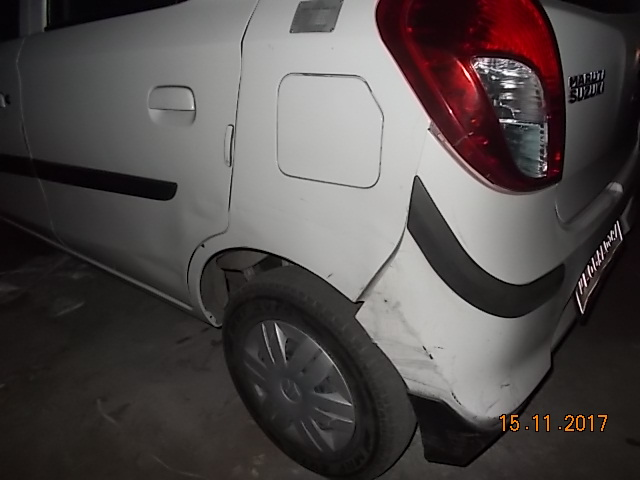Dislocation: (349, 249, 402, 315)
